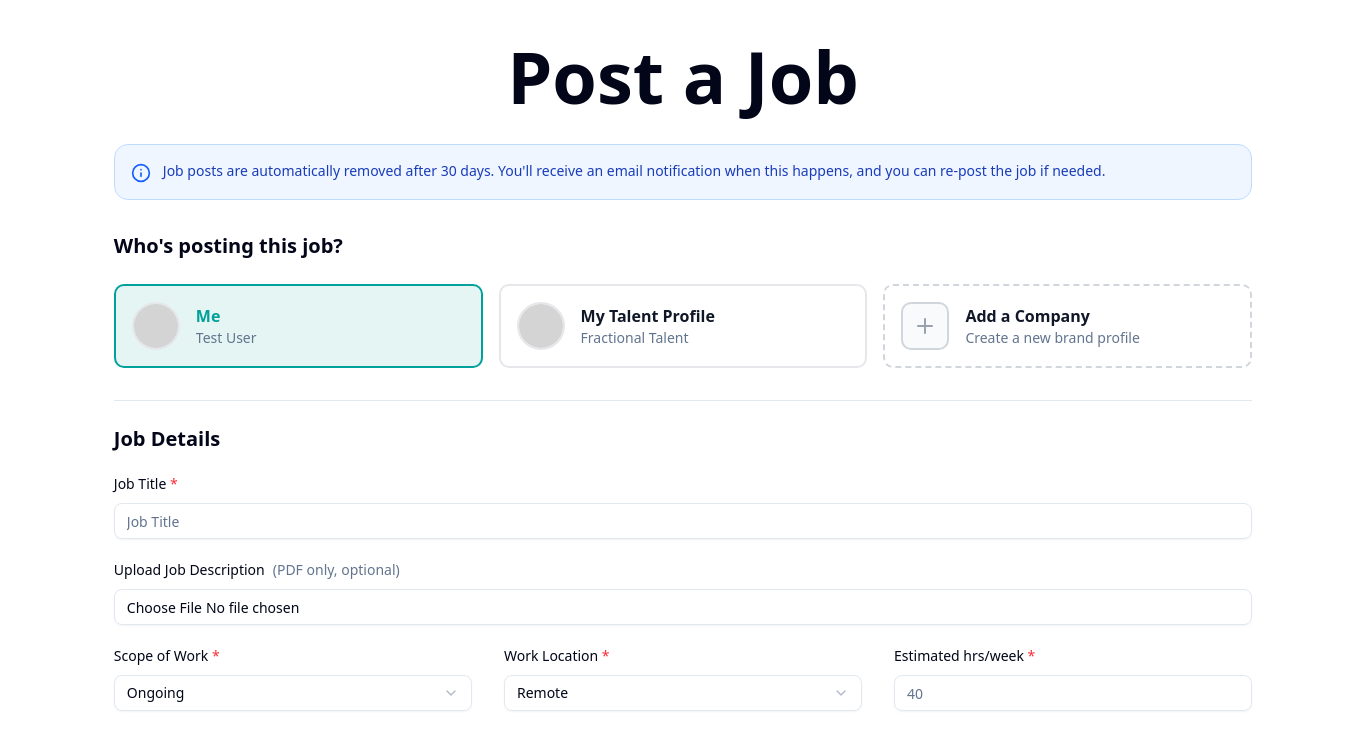
Scenario: PostJob Component › Poster Selection › should allow switching to 'Add a Company'
Click the text "Add a Company".
click(1028, 316)  # box [965,305,1090,327]
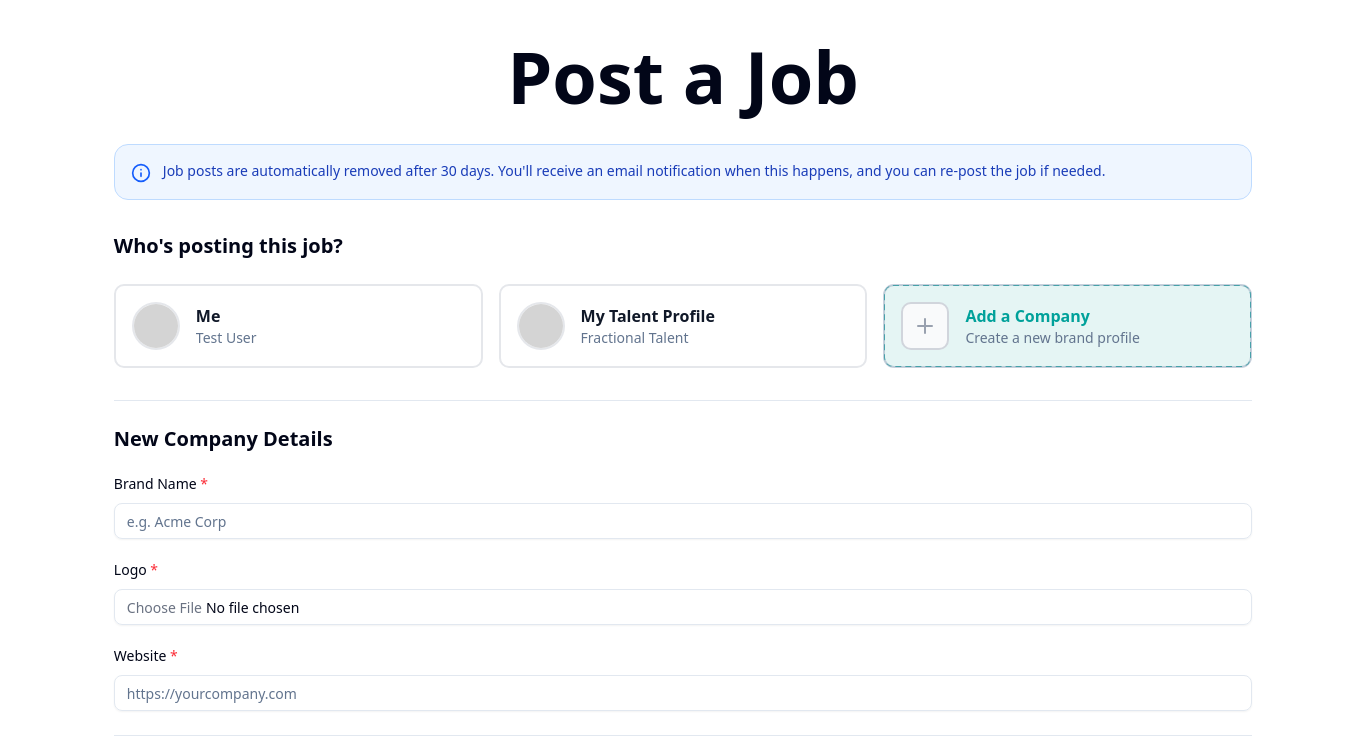
Result: the text "Brand Name" is shown at [114,474,197,493]
